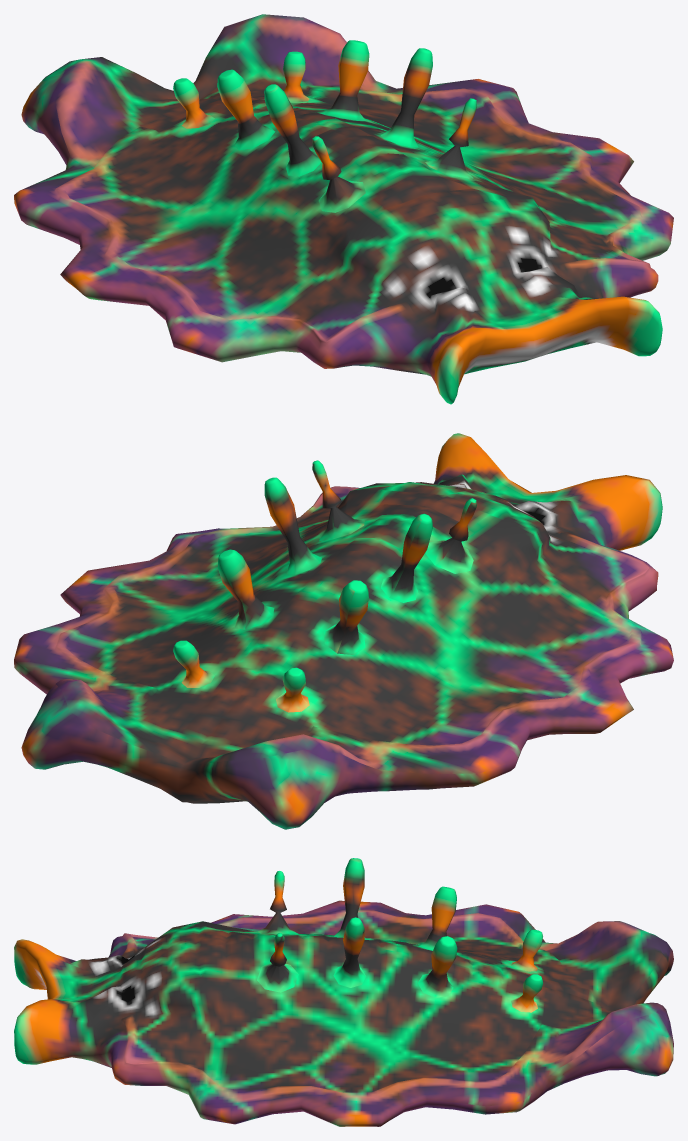
The model's file is slug-B7JzcQ2A.glb.
3 views of the same model, one above another, from view 1: azimuth 30°, elevation 25°; view 2: azimuth 150°, elevation 25°; view 3: azimuth 270°, elevation 25° (orthographic). The views are drawn at different scales.
Parts seen in each view (by area): view 1: lokiNudibranch_model_V0001; view 2: lokiNudibranch_model_V0001; view 3: lokiNudibranch_model_V0001.
Part boxes in pixels (x1,y1,x2,y2): lokiNudibranch_model_V0001: [14, 14, 673, 404]; lokiNudibranch_model_V0001: [14, 433, 673, 829]; lokiNudibranch_model_V0001: [14, 858, 673, 1126].
Size of the model in its own units: 3.78 by 1.54 by 4.78.
Materials: 1 (1 with a texture image).
